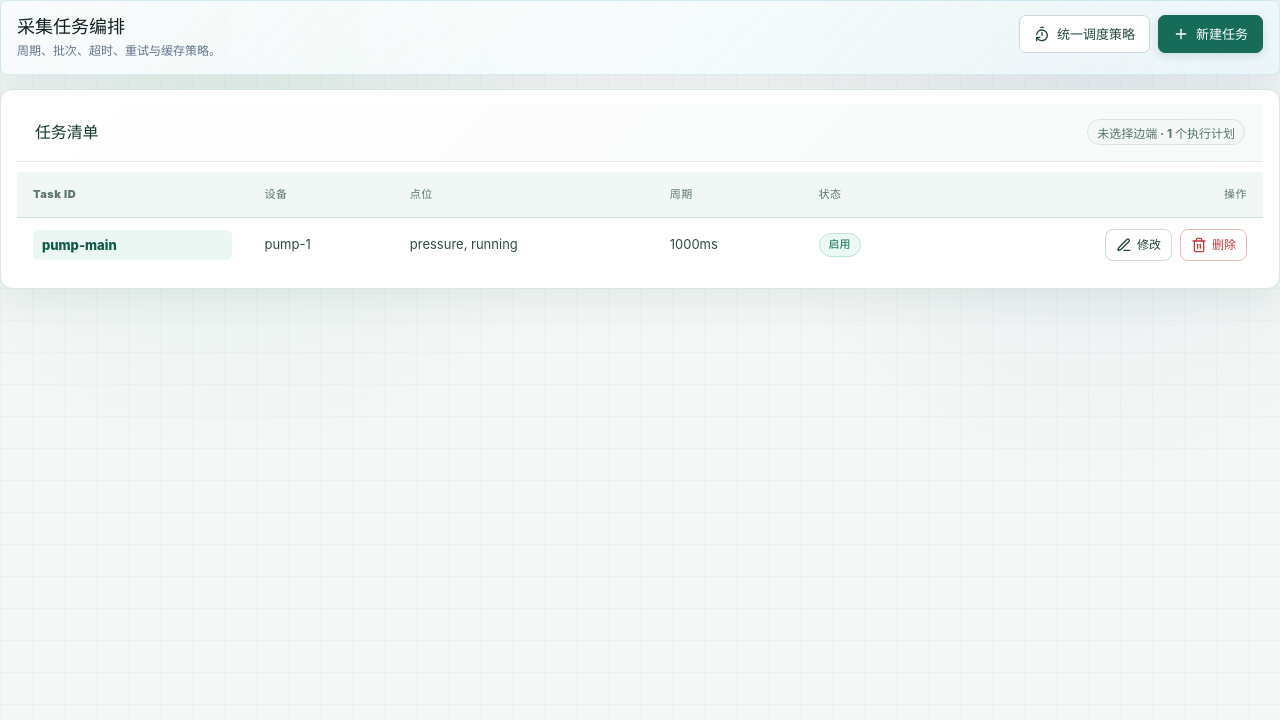
Scenario: CollectionTasksPage › shows collection task table and editor fields
This screenshot has width=1280, height=720.
Expected: the heading "任务清单" is shown, [35, 122, 98, 143]
Expected: the text "pressure, running" is shown, [394, 218, 654, 272]
Click the button with aria-label "编辑任务 pump-main": [133, 245] box [33, 230, 232, 260]
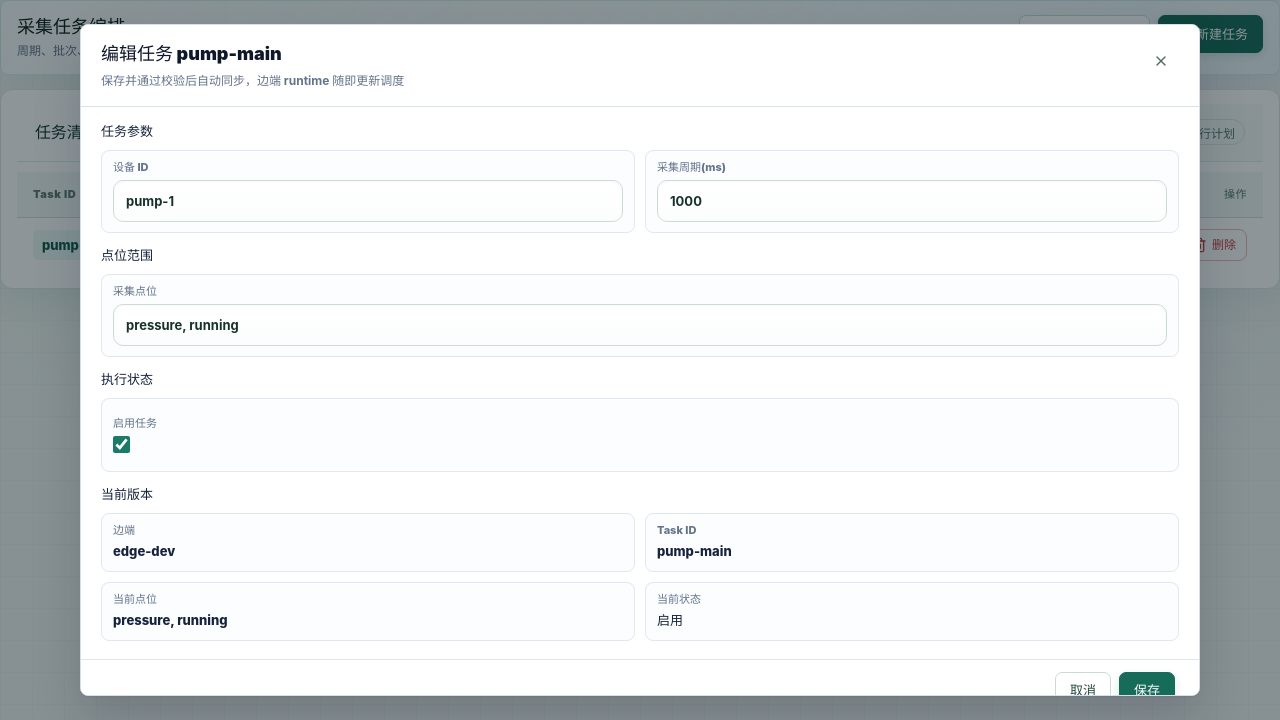
Expected: the heading "编辑任务 pump-main" is shown, [101, 43, 282, 64]
Expected: the number field labelled "采集周期(ms)" is shown, [657, 180, 1167, 222]
